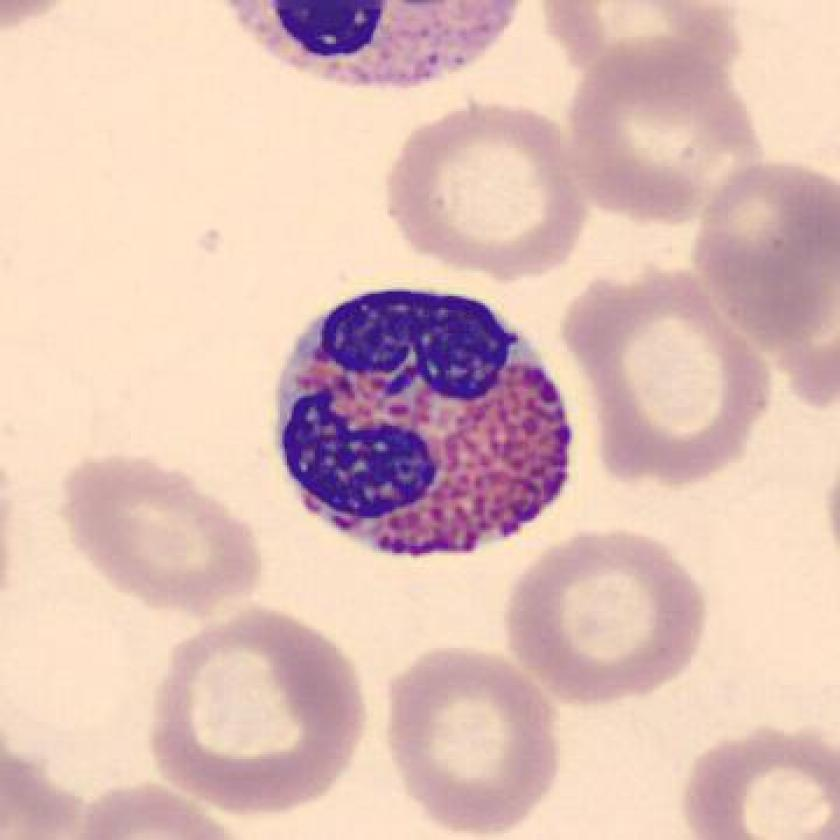eosinophil: (263, 270, 585, 580)
